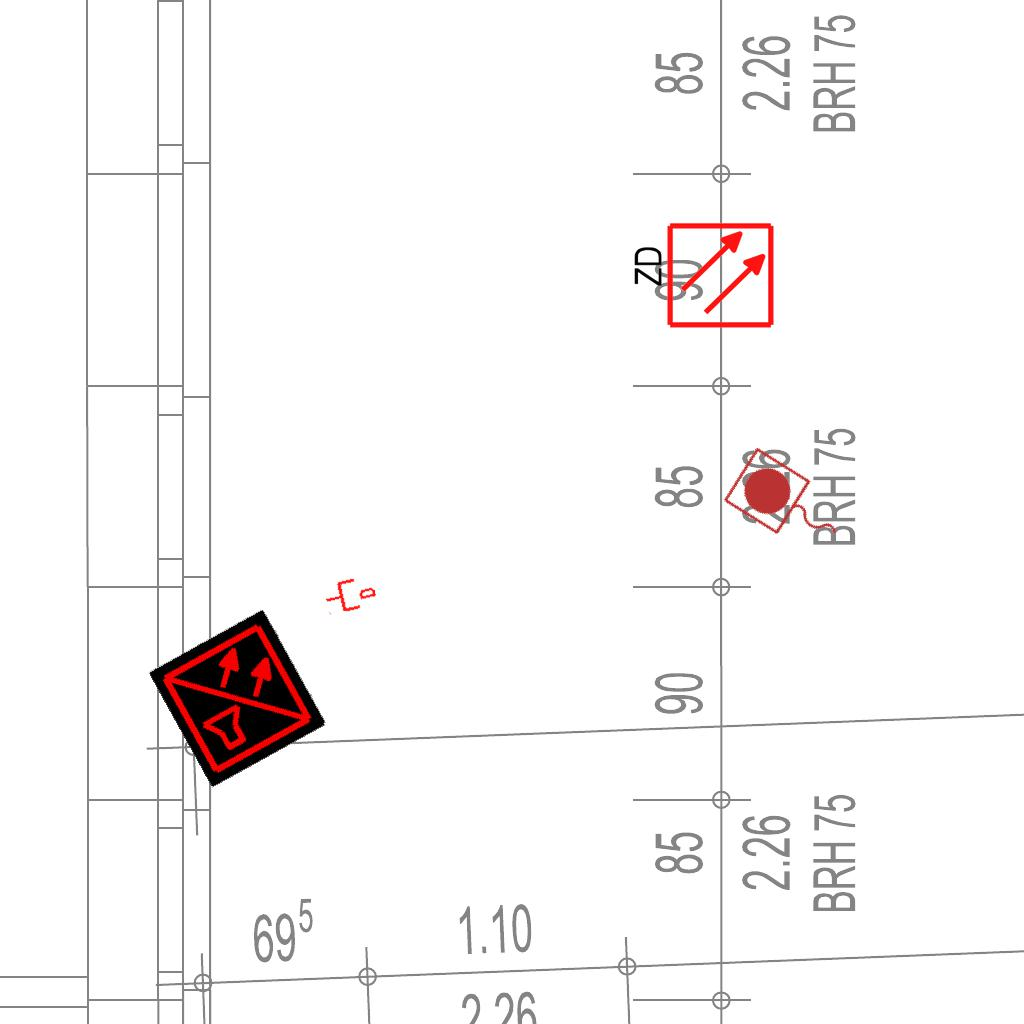Datenanschluss_einfach: (321, 572, 379, 618)
OKW_Multisensormelder_(Kombination_optischer_Rauch-Kahlenmonoxid_Waerme-Melder): (148, 608, 328, 788)
ZD_Melder_in_Zwischendecke_mit_Revisionsoeffnung_mind_40_x_40_cm: (627, 220, 776, 334)
Zugtaster: (717, 442, 859, 568)
